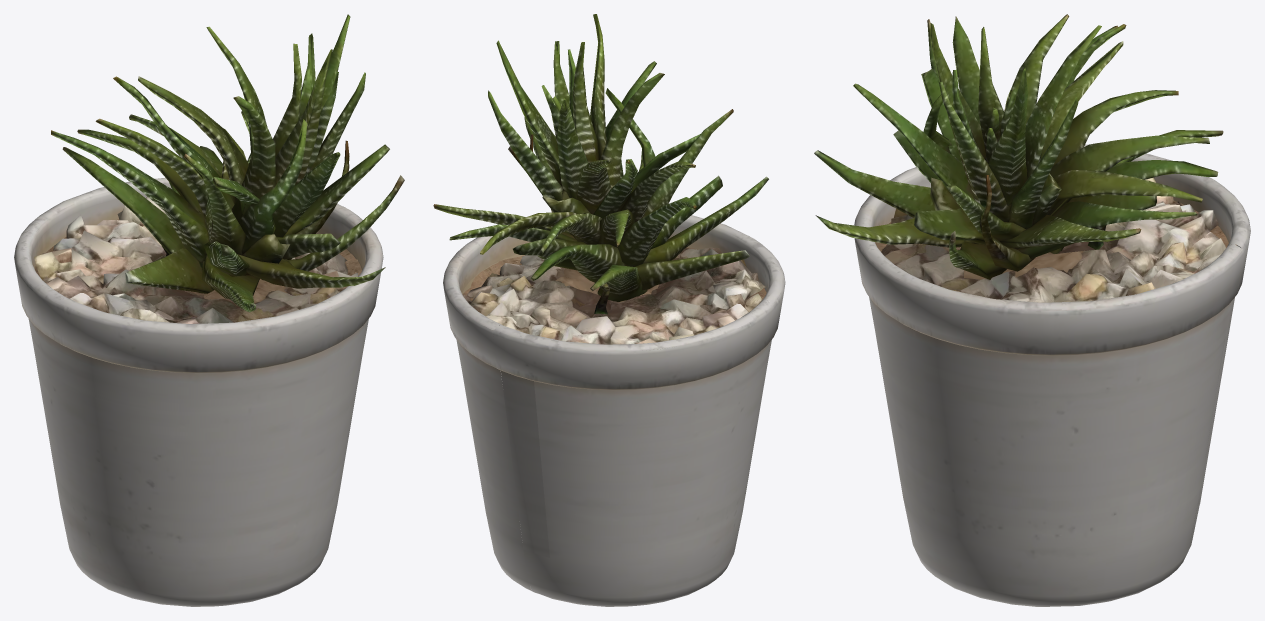
The model's file is potted_plant_04.glb.
The picture shows the model from 3 angles, left to right: view 1: azimuth 30°, elevation 25°; view 2: azimuth 150°, elevation 25°; view 3: azimuth 270°, elevation 25°; orthographic projection. The views are drawn at different scales.
Parts seen in each view (by area): view 1: potted_plant_04_pot, potted_plant_04_plant, potted_plant_04_ground, potted_plant_04_dirt; view 2: potted_plant_04_pot, potted_plant_04_plant, potted_plant_04_ground, potted_plant_04_dirt; view 3: potted_plant_04_pot, potted_plant_04_plant, potted_plant_04_ground, potted_plant_04_dirt.
Part boxes in pixels (bbox=[...]): potted_plant_04_pot: bbox=[14, 177, 383, 606]; potted_plant_04_plant: bbox=[51, 14, 404, 312]; potted_plant_04_ground: bbox=[34, 196, 358, 323]; potted_plant_04_dirt: bbox=[34, 219, 361, 305]; potted_plant_04_pot: bbox=[443, 215, 785, 606]; potted_plant_04_plant: bbox=[433, 14, 768, 314]; potted_plant_04_ground: bbox=[462, 247, 766, 344]; potted_plant_04_dirt: bbox=[463, 247, 766, 306]; potted_plant_04_pot: bbox=[854, 144, 1250, 606]; potted_plant_04_plant: bbox=[814, 14, 1223, 279]; potted_plant_04_ground: bbox=[881, 177, 1225, 302]; potted_plant_04_dirt: bbox=[875, 200, 1236, 279].
Bounding box in the file's own units: 0.168 × 0.2673 × 0.1846.
1 material, 1 textured.
